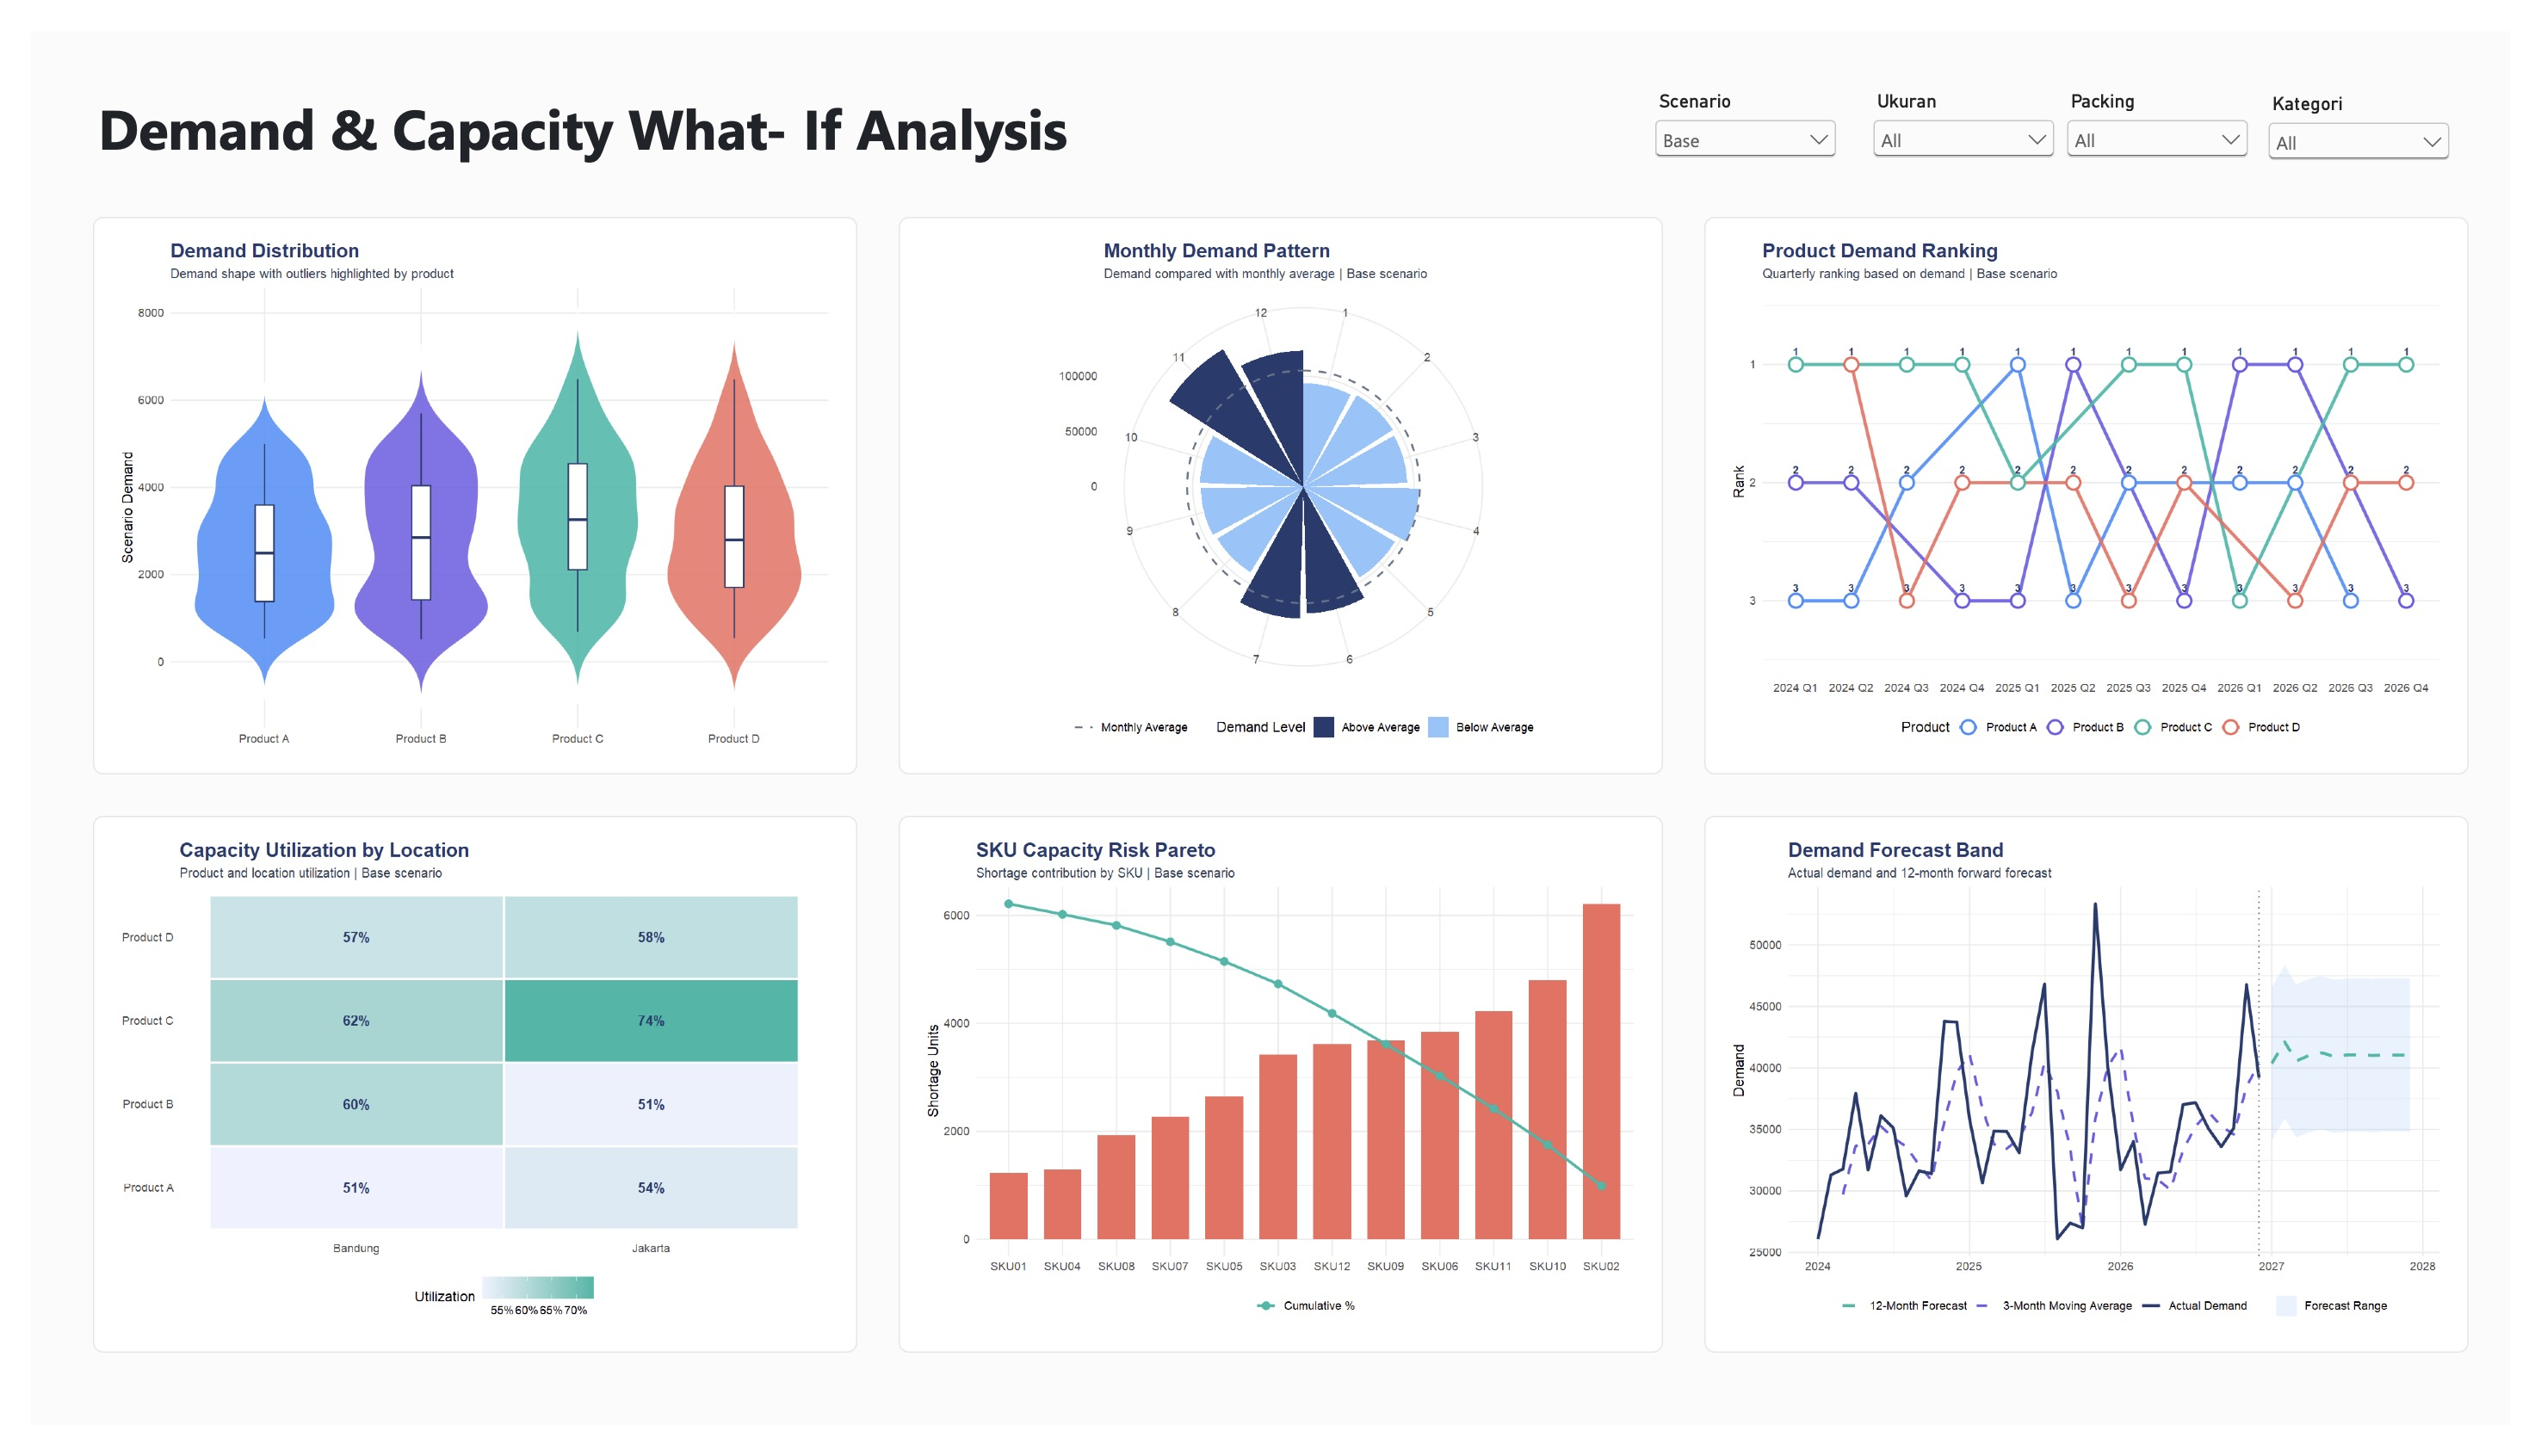

Layout of this report page (visuals, bound fields, positions):
{"tool":"powerbi","page":{"name":"Page 1","canvas":[1920,1080],"ordinal":0},"visuals":[{"type":"scriptVisual","fields":{"Values":["dataset.Bulan","dataset.Capacity","dataset.CapacityGap","dataset.DemandValue","dataset.Demand","dataset.Growth","dataset.Harga","dataset.Lokasi","dataset.Kategori","dataset.NamaBulan","dataset.Packing","dataset.Produk"]},"box":[672,144,592,432],"z":0},{"type":"scriptVisual","fields":{"Values":["dataset.Bulan","dataset.Capacity","dataset.CapacityGap","dataset.DemandValue","dataset.Demand","dataset.Growth","dataset.Harga","dataset.Lokasi","dataset.Kategori","dataset.NamaBulan","dataset.Packing","dataset.Produk"]},"box":[48,144,592,432],"z":1000},{"type":"scriptVisual","fields":{"Values":["dataset.Bulan","dataset.Capacity","dataset.CapacityGap","dataset.DemandValue","dataset.Demand","dataset.Growth","dataset.Harga","dataset.Lokasi","dataset.Kategori","dataset.NamaBulan","dataset.Packing","dataset.Produk"]},"box":[48,608,592,416],"z":2000},{"type":"scriptVisual","fields":{"Values":["dataset.Bulan","dataset.Capacity","dataset.CapacityGap","dataset.DemandValue","dataset.Demand","dataset.Growth","dataset.Harga","dataset.Lokasi","dataset.Kategori","dataset.NamaBulan","dataset.Packing","dataset.Produk"]},"box":[672,608,592,416],"z":3000},{"type":"scriptVisual","fields":{"Values":["dataset.Bulan","dataset.Capacity","dataset.CapacityGap","dataset.DemandValue","dataset.Demand","dataset.Growth","dataset.Harga","dataset.Lokasi","dataset.Kategori","dataset.NamaBulan","dataset.Packing","dataset.Produk"]},"box":[1296,608,592,416],"z":4000},{"type":"scriptVisual","fields":{"Values":["dataset.Bulan","dataset.Capacity","dataset.CapacityGap","dataset.DemandValue","dataset.Demand","dataset.Growth","dataset.Harga","dataset.Lokasi","dataset.Kategori","dataset.NamaBulan","dataset.Packing","dataset.Produk"]},"box":[1296,144,592,432],"z":5000},{"type":"textbox","box":[52.1,45.6,1200.5,81.4],"z":5001},{"type":"slicer","fields":{"Values":["dataset.Scenario"]},"box":[1252.7,45.6,150,75],"z":5002},{"type":"slicer","fields":{"Values":["dataset.Kategori"]},"box":[1728,48,149.9,73.3],"z":5003},{"type":"slicer","fields":{"Values":["dataset.Ukuran"]},"box":[1422.1,45.6,150,75],"z":5004},{"type":"slicer","fields":{"Values":["dataset.Packing"]},"box":[1571.9,45.6,150,75],"z":5005}]}

Visuals, with their boxes in screenshot pixels (x1, y1, x2, y2), scaled from the page's 1920x1080 canvas onto the 2541x1456 screenshot:
scriptVisual - dataset.Bulan x dataset.Capacity: crop(889, 194, 1672, 776)
scriptVisual - dataset.Bulan x dataset.Capacity: crop(64, 194, 847, 776)
scriptVisual - dataset.Bulan x dataset.Capacity: crop(64, 820, 847, 1380)
scriptVisual - dataset.Bulan x dataset.Capacity: crop(889, 820, 1672, 1380)
scriptVisual - dataset.Bulan x dataset.Capacity: crop(1716, 820, 2499, 1380)
scriptVisual - dataset.Bulan x dataset.Capacity: crop(1716, 194, 2499, 776)
textbox: crop(69, 61, 1658, 171)
slicer - dataset.Scenario: crop(1658, 61, 1857, 163)
slicer - dataset.Kategori: crop(2287, 65, 2485, 163)
slicer - dataset.Ukuran: crop(1882, 61, 2080, 163)
slicer - dataset.Packing: crop(2080, 61, 2278, 163)
